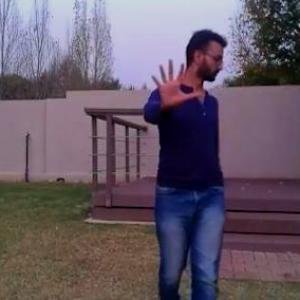follow_hand: (145, 53, 204, 112)
